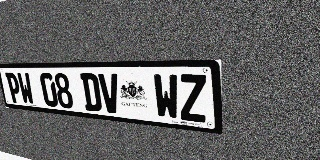0: (39, 73, 59, 107)
8: (53, 73, 74, 109)
D: (80, 73, 102, 112)
P: (5, 72, 23, 104)
V: (98, 73, 122, 114)
W: (153, 74, 180, 120), (16, 73, 35, 105)
Z: (178, 74, 207, 123)
